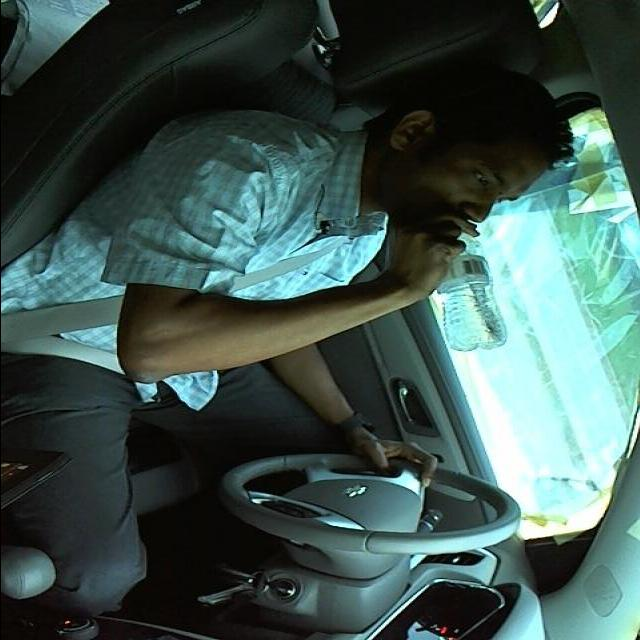drinking: (436, 222, 508, 352)
